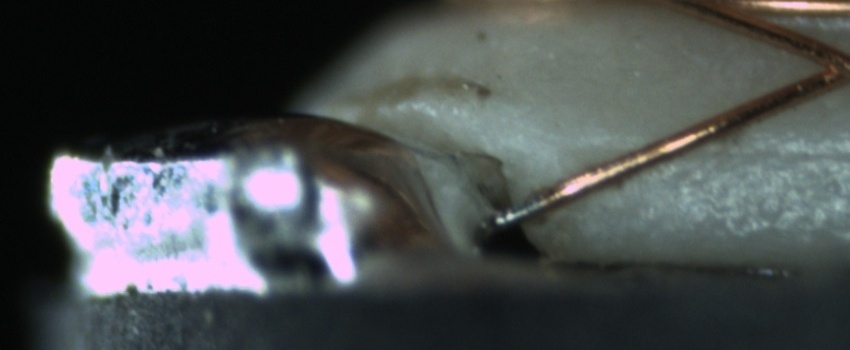CL: (796, 35, 850, 91)
DL: (615, 118, 848, 184)
TS: (492, 194, 546, 227)
